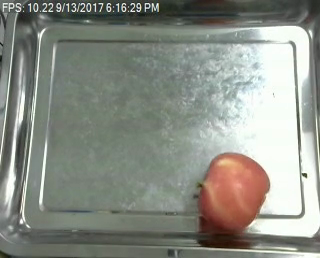Apple: (197, 152, 270, 230)
